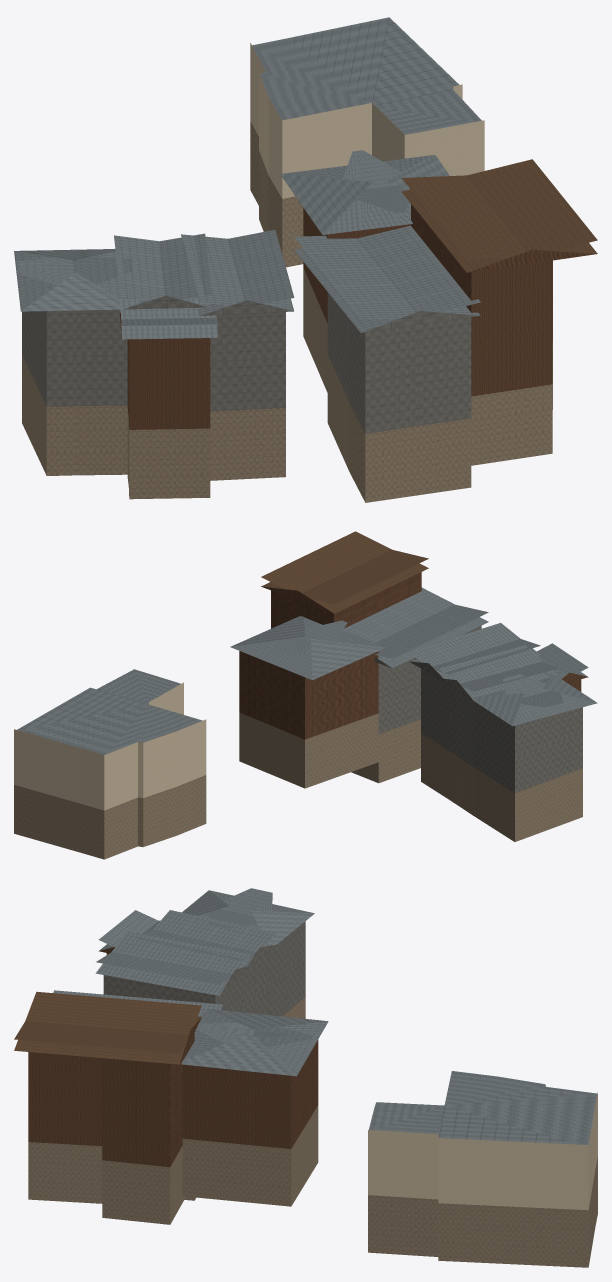
Rendered from bld_c22_45_390.gltf.
3 renders of one model, top to bottom at view 1: azimuth 30°, elevation 25°; view 2: azimuth 150°, elevation 25°; view 3: azimuth 270°, elevation 25°, orthographic. The views are drawn at different scales.
Parts seen in each view (by area): view 1: bld_c22_45_390; view 2: bld_c22_45_390; view 3: bld_c22_45_390.
Part boxes in pixels (x1,y1,x2,y2): bld_c22_45_390: (14, 17, 597, 502); bld_c22_45_390: (14, 531, 597, 859); bld_c22_45_390: (14, 888, 597, 1267).
Bounding box in the file's own units: 46 × 17.1 × 46.88.
9 materials, 9 textured.
